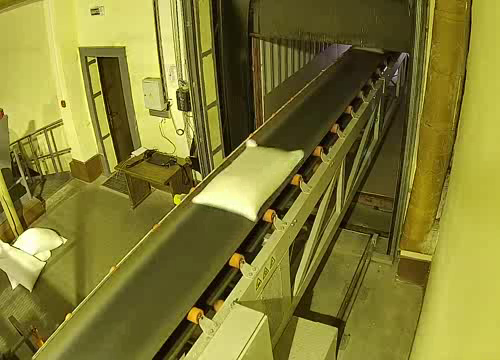bag: (190, 136, 306, 225), (352, 44, 386, 56)
